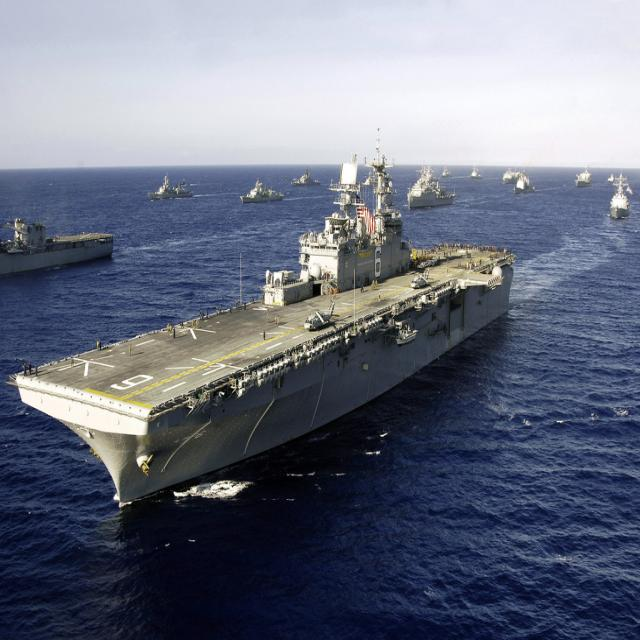navalvessels: (2, 149, 548, 501), (0, 201, 123, 270), (397, 170, 465, 209), (132, 166, 194, 204), (602, 181, 640, 238), (230, 173, 284, 209), (503, 164, 536, 195), (466, 160, 488, 193), (278, 173, 320, 190), (570, 167, 592, 199)
